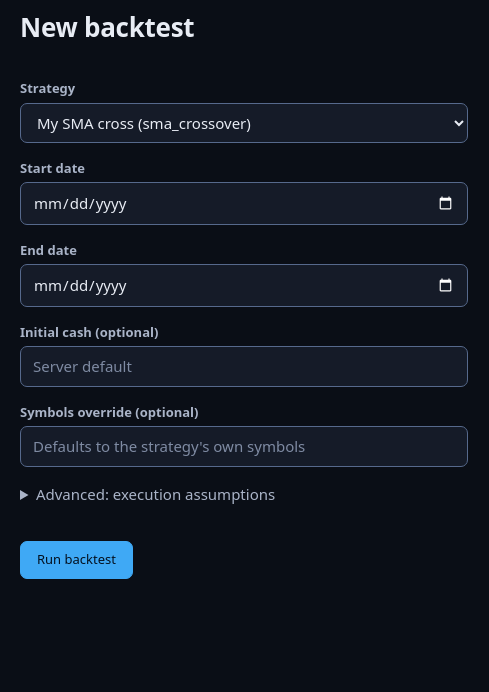
Test: BacktestForm › rejects an end date before the start date, without a request
Expected: the dropdown labelled "Strategy" is shown, [20,102,468,142]
Type "2026-02-01" into the date field labelled "Start date" at (244, 203), box [20,182,468,224]
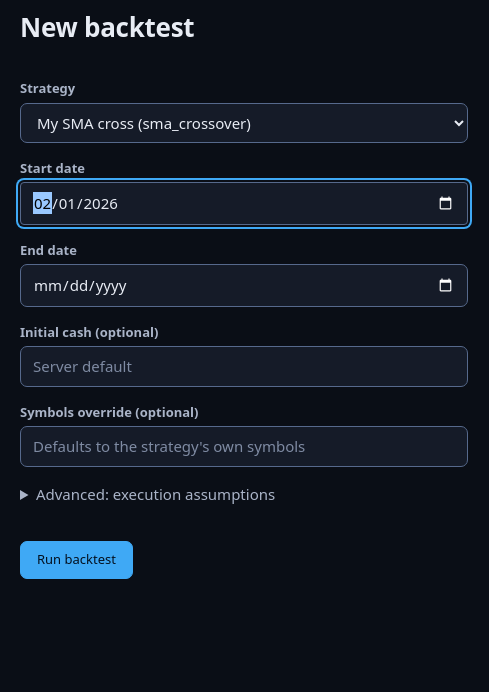
Type "2026-01-01" into the date field labelled "End date" at (244, 285), box [20,264,468,306]
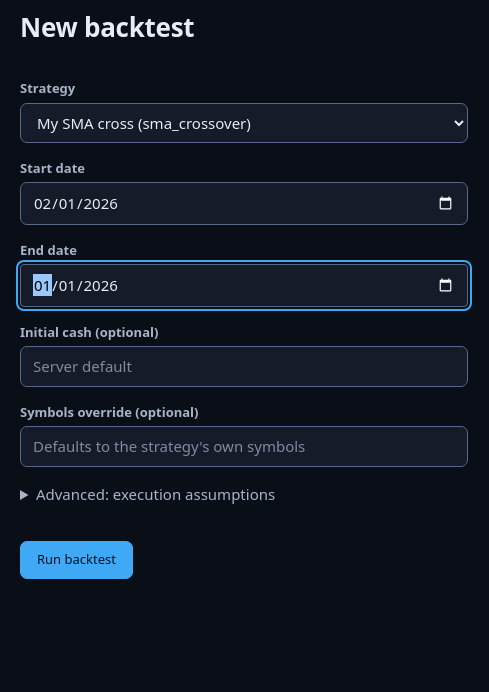
Click the button "Run backtest" at (76, 560), box [20,541,133,578]
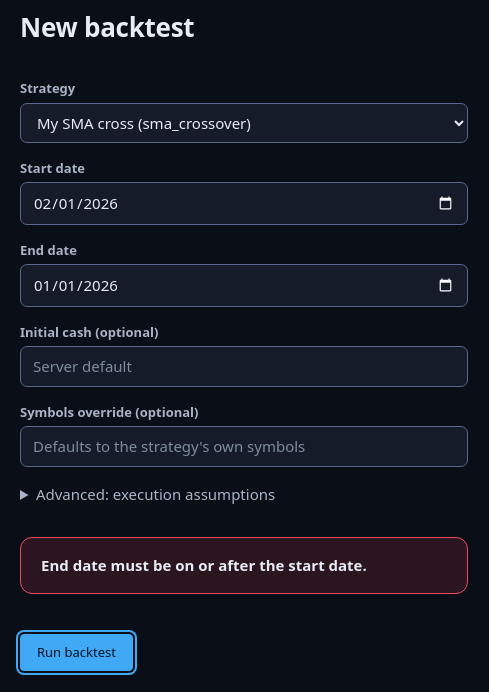
Expected: the message shows "End date must be on or after", [41,555,367,575]
